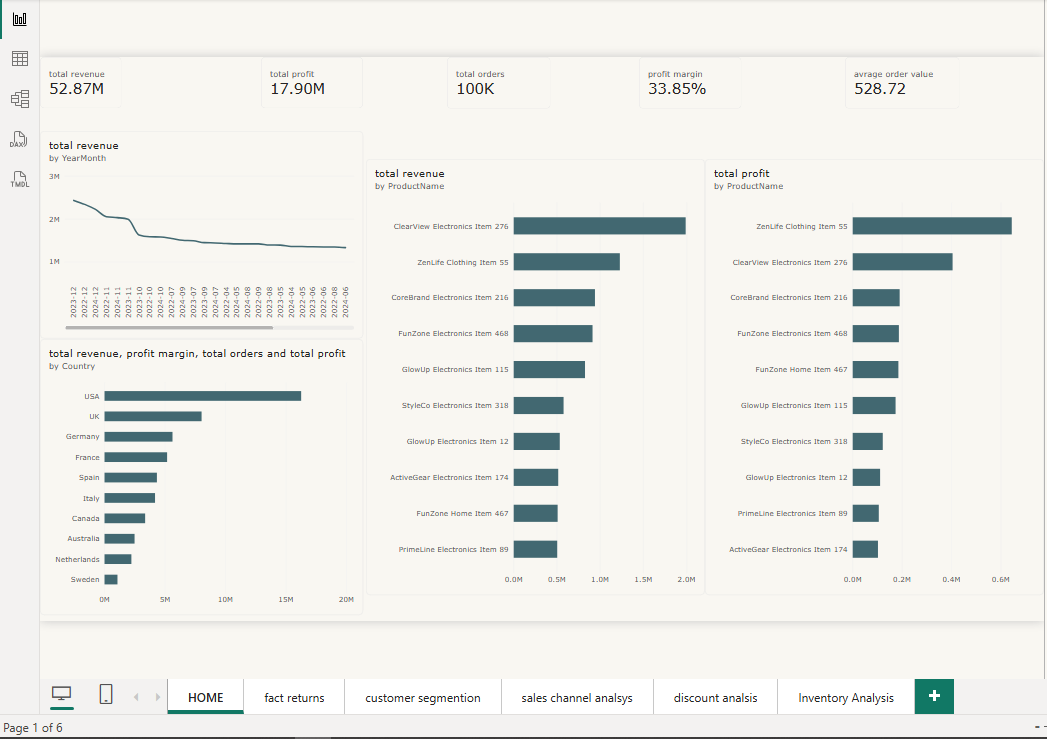

The page's visual inventory and layout, read from the dashboard file:
{"tool":"powerbi","page":{"name":"HOME","canvas":[1920,1080],"ordinal":0},"visuals":[{"type":"cardVisual","fields":{"Data":["dw FactReturns.total revenue"]},"box":[0,0,156.2,98.8],"z":0},{"type":"cardVisual","fields":{"Data":["dw FactReturns.total profit"]},"box":[422.6,0,195.2,98.8],"z":1},{"type":"cardVisual","fields":{"Data":["dw FactReturns.total orders"]},"box":[778.3,0,198.9,99.4],"z":2},{"type":"cardVisual","fields":{"Data":["dw FactReturns.profit margin"]},"box":[1145.5,0,197,99.4],"z":3},{"type":"lineChart","fields":{"Category":["dw dimdate.YearMonth"],"Y":["dw FactReturns.total revenue"]},"box":[0,142.4,617.8,397.3],"z":4},{"type":"clusteredBarChart","fields":{"Category":["dw dimproduct.ProductName"],"Y":["dw FactReturns.total revenue"]},"box":[623.4,195.1,647.7,833.7],"z":5},{"type":"clusteredBarChart","fields":{"Category":["dw dimproduct.ProductName"],"Y":["dw FactReturns.total profit"]},"box":[1271.7,195.1,647.7,833.7],"z":6},{"type":"cardVisual","fields":{"Data":["dw FactReturns.avrage order value"]},"box":[1539.4,0,219.9,99.4],"z":7},{"type":"clusteredBarChart","fields":{"Category":["dw dimcustomer.Country"],"Y":["dw FactReturns.total revenue"]},"box":[0,539.3,617.7,527.8],"z":8}]}

Visuals, with their boxes on the page's 1920x1080 design canvas (x1, y1, x2, y2). These are canvas units, not pixel positions in the 1047x739 screenshot, which may show the page scaled, cropped or inside an application window:
cardVisual - dw FactReturns.total revenue: [0,0,156,99]
cardVisual - dw FactReturns.total profit: [423,0,618,99]
cardVisual - dw FactReturns.total orders: [778,0,977,99]
cardVisual - dw FactReturns.profit margin: [1146,0,1342,99]
lineChart - dw dimdate.YearMonth x dw FactReturns.total revenue: [0,142,618,540]
clusteredBarChart - dw dimproduct.ProductName x dw FactReturns.total revenue: [623,195,1271,1029]
clusteredBarChart - dw dimproduct.ProductName x dw FactReturns.total profit: [1272,195,1919,1029]
cardVisual - dw FactReturns.avrage order value: [1539,0,1759,99]
clusteredBarChart - dw dimcustomer.Country x dw FactReturns.total revenue: [0,539,618,1067]
